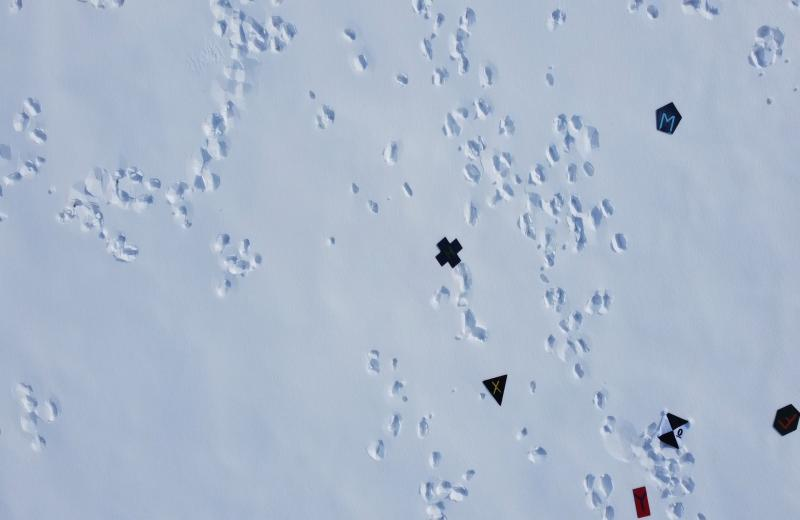Cross: (433, 235, 464, 273)
Hexagon: (769, 404, 800, 438)
Pentagon: (650, 99, 685, 139)
Rectangle: (631, 485, 651, 520)
Triangle: (480, 371, 512, 407)
